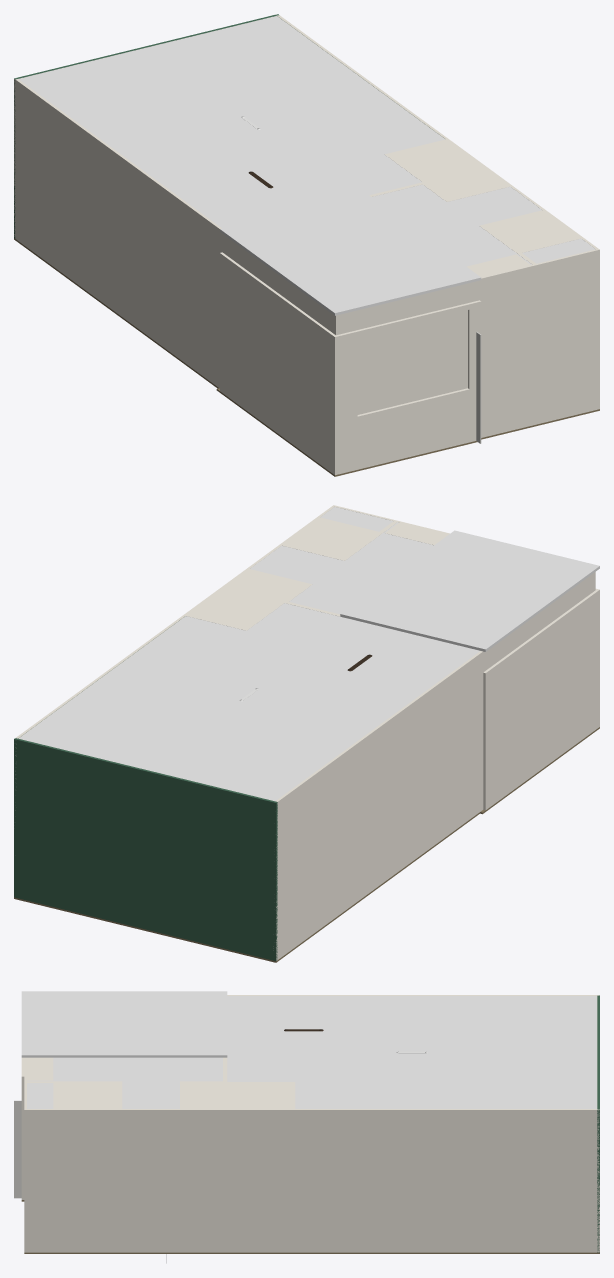
The model's file is huis.glb.
3 renders of one model, top to bottom at view 1: azimuth 30°, elevation 25°; view 2: azimuth 150°, elevation 25°; view 3: azimuth 270°, elevation 25°, orthographic. The views are drawn at different scales.
Visible parts, largest first — view 1: EXPORT plafond, BG linkermuur, BG voorgevel, plafond, rechterwand, achterwand, BG kastwand extra, achterwand.003, BG toiletwand, BG kastwand, BG rechtermuur, achterwand.001 (+6 smaller); view 2: EXPORT plafond, BG achtergevel, BG linkermuur, plafond, rechterwand, BG kastwand extra, BG toiletwand, BG kastwand, BG vloer, BG rechtermuur, BG mkwand, BG schoonmaakkastwand v2 (+1 smaller); view 3: BG rechtermuur, EXPORT plafond, plafond, BG kastwand extra, BG kastwand, BG toiletwand, BG vloer, BG schoonmaakkastdeur v2, BG achtergevel, BG schoonmaakkastwand v2, BG mkwand, BG linkermuur.
Boxes of the visible parts, x1,y1,x2,y2 form: EXPORT plafond: [18, 16, 595, 266]; BG linkermuur: [14, 79, 338, 388]; BG voorgevel: [334, 249, 599, 437]; plafond: [220, 193, 481, 315]; rechterwand: [220, 252, 339, 474]; achterwand: [332, 388, 476, 474]; BG kastwand extra: [384, 139, 483, 182]; achterwand.003: [332, 337, 357, 421]; BG toiletwand: [481, 210, 568, 243]; BG kastwand: [423, 167, 509, 200]; BG rechtermuur: [276, 14, 599, 409]; achterwand.001: [332, 300, 481, 342]; EXPORT plafond: [18, 507, 479, 800]; BG achtergevel: [14, 738, 277, 960]; BG linkermuur: [273, 572, 595, 960]; plafond: [340, 530, 599, 651]; rechterwand: [483, 589, 599, 810]; BG kastwand extra: [186, 588, 283, 630]; BG toiletwand: [282, 526, 368, 560]; BG kastwand: [224, 569, 308, 602]; BG vloer: [14, 812, 479, 962]; BG rechtermuur: [15, 505, 335, 810]; BG mkwand: [308, 517, 380, 540]; BG schoonmaakkastwand v2: [385, 522, 448, 545]; BG rechtermuur: [24, 1109, 599, 1252]; EXPORT plafond: [27, 996, 596, 1108]; plafond: [21, 991, 227, 1057]; BG kastwand extra: [227, 1082, 295, 1108]; BG kastwand: [180, 1082, 227, 1108]; BG toiletwand: [75, 1082, 122, 1108]; BG vloer: [24, 1252, 599, 1253]; BG schoonmaakkastdeur v2: [14, 1100, 21, 1198]; BG achtergevel: [597, 995, 599, 1252]; BG schoonmaakkastwand v2: [27, 1057, 53, 1080]; BG mkwand: [53, 1082, 75, 1108]; BG linkermuur: [227, 995, 599, 995].
Bounding box in the file's own units: 5.25 × 3.47 × 11.18.
